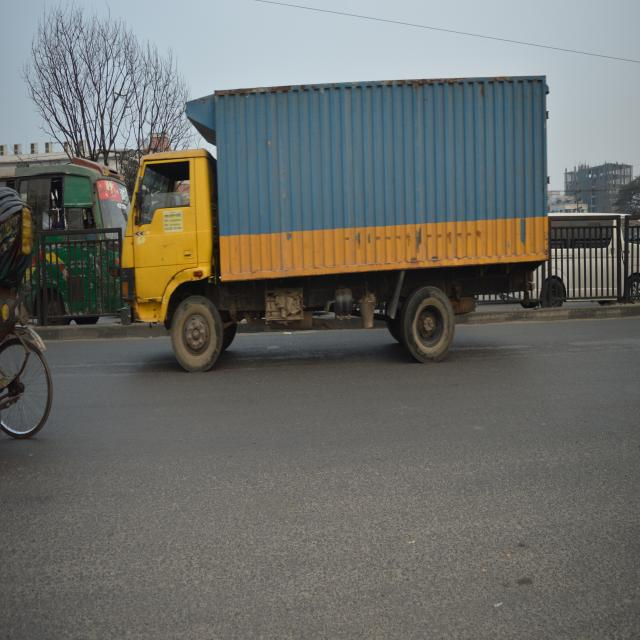bus: (0, 151, 125, 331)
microbus: (551, 203, 640, 303)
truck: (116, 68, 554, 378)
